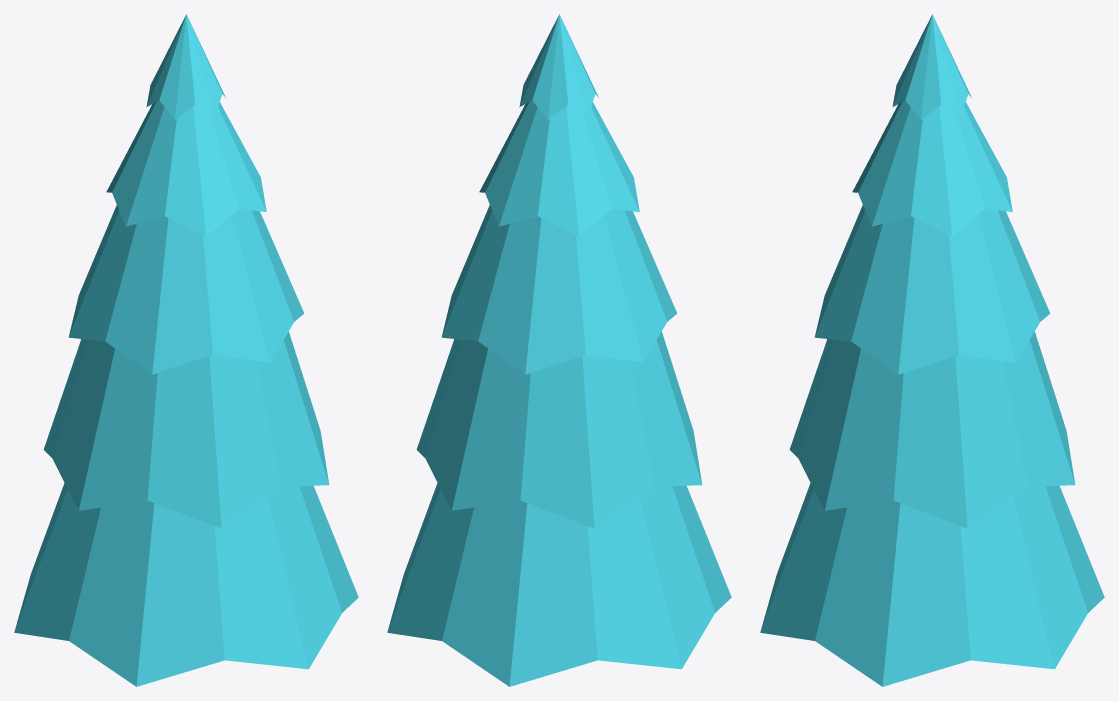
The model's file is blueTop.glb.
3 renders of one model, left to right at view 1: azimuth 30°, elevation 25°; view 2: azimuth 150°, elevation 25°; view 3: azimuth 270°, elevation 25°, orthographic.
Visible parts, largest first — view 1: topBlue, topBlue.002, topBlue.003, topBlue.004, topBlue.005; view 2: topBlue, topBlue.002, topBlue.003, topBlue.004, topBlue.005; view 3: topBlue, topBlue.002, topBlue.003, topBlue.004, topBlue.005.
Part boxes in pixels (left/top/right/bottom): topBlue: left=14, top=483, right=358, bottom=686; topBlue.002: left=43, top=331, right=329, bottom=528; topBlue.003: left=68, top=205, right=304, bottom=374; topBlue.004: left=106, top=100, right=266, bottom=236; topBlue.005: left=146, top=14, right=225, bottom=119; topBlue: left=387, top=483, right=731, bottom=686; topBlue.002: left=416, top=331, right=702, bottom=528; topBlue.003: left=441, top=205, right=677, bottom=374; topBlue.004: left=479, top=100, right=639, bottom=236; topBlue.005: left=519, top=14, right=598, bottom=119; topBlue: left=760, top=483, right=1104, bottom=686; topBlue.002: left=789, top=331, right=1075, bottom=528; topBlue.003: left=814, top=205, right=1050, bottom=374; topBlue.004: left=852, top=100, right=1012, bottom=236; topBlue.005: left=892, top=14, right=971, bottom=119.
Bounding box in the file's own units: 8.92 × 17.39 × 9.03.
